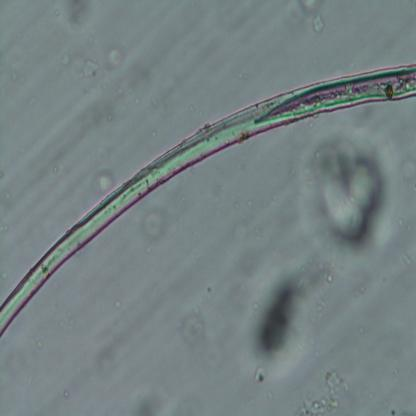Background material: (300, 129, 397, 274), (253, 273, 315, 367), (84, 322, 129, 379), (300, 370, 348, 414), (55, 0, 103, 32), (132, 382, 168, 416), (142, 210, 166, 242), (181, 313, 204, 345), (94, 170, 114, 194), (82, 57, 100, 77), (108, 48, 124, 68), (254, 366, 270, 385), (312, 12, 325, 34)
Microfibre: (0, 61, 416, 338)
